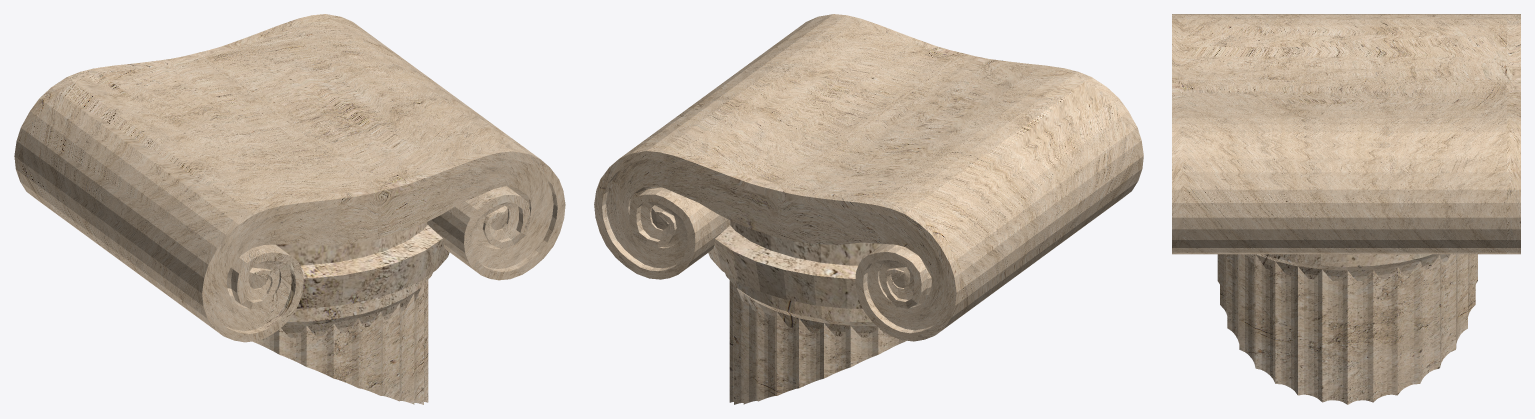
File: capitelsmall.fbx
3 renders of one model, left to right at view 1: azimuth 30°, elevation 25°; view 2: azimuth 150°, elevation 25°; view 3: azimuth 270°, elevation 25°, orthographic. The views are drawn at different scales.
Parts seen in each view (by area): view 1: Plane, Cylinder; view 2: Plane, Cylinder; view 3: Plane, Cylinder.
Boxes of the visible parts, x1=… form: Plane: x1=14, y1=14, x2=565, y2=342; Cylinder: x1=253, y1=222, x2=449, y2=404; Plane: x1=594, y1=14, x2=1143, y2=341; Cylinder: x1=708, y1=220, x2=906, y2=404; Plane: x1=1172, y1=14, x2=1520, y2=254; Cylinder: x1=1217, y1=254, x2=1477, y2=404.
Size of the model in its own units: 791 by 623 by 707.
